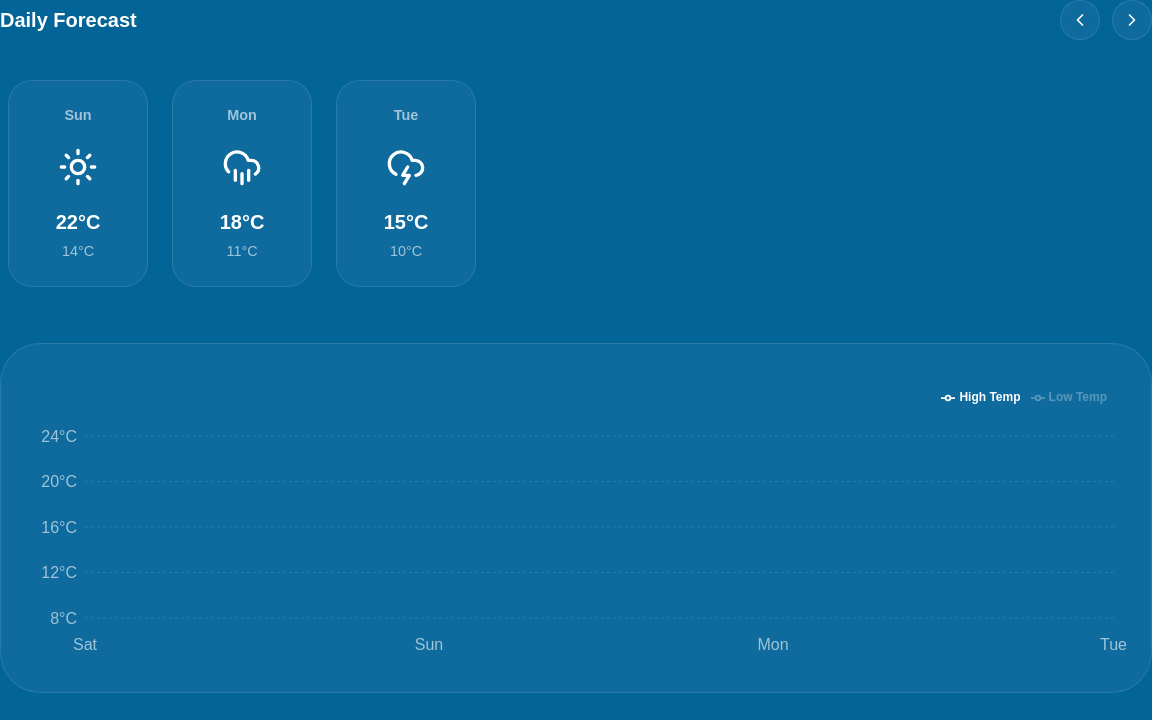
Scenario: DailyForecast › day selection › opens the modal when a day card is clicked
Click the button "Sun 22°C 14°C": point(78, 184) [8,80,148,287]
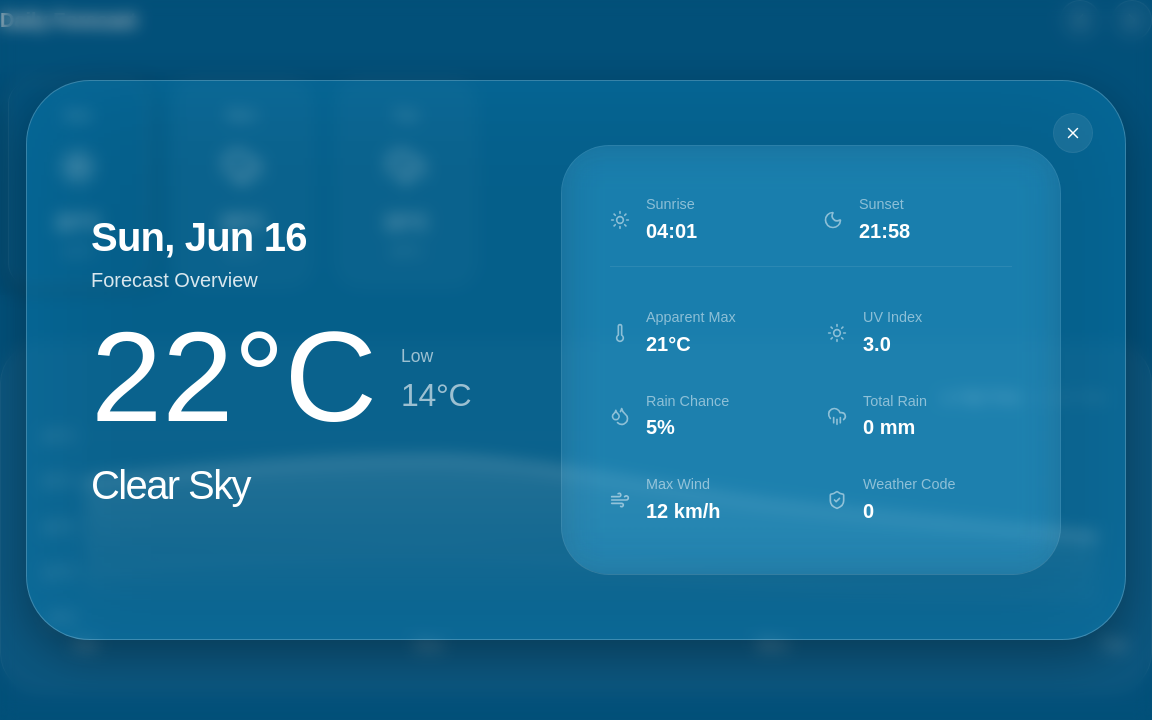
Result: the dialog is shown
